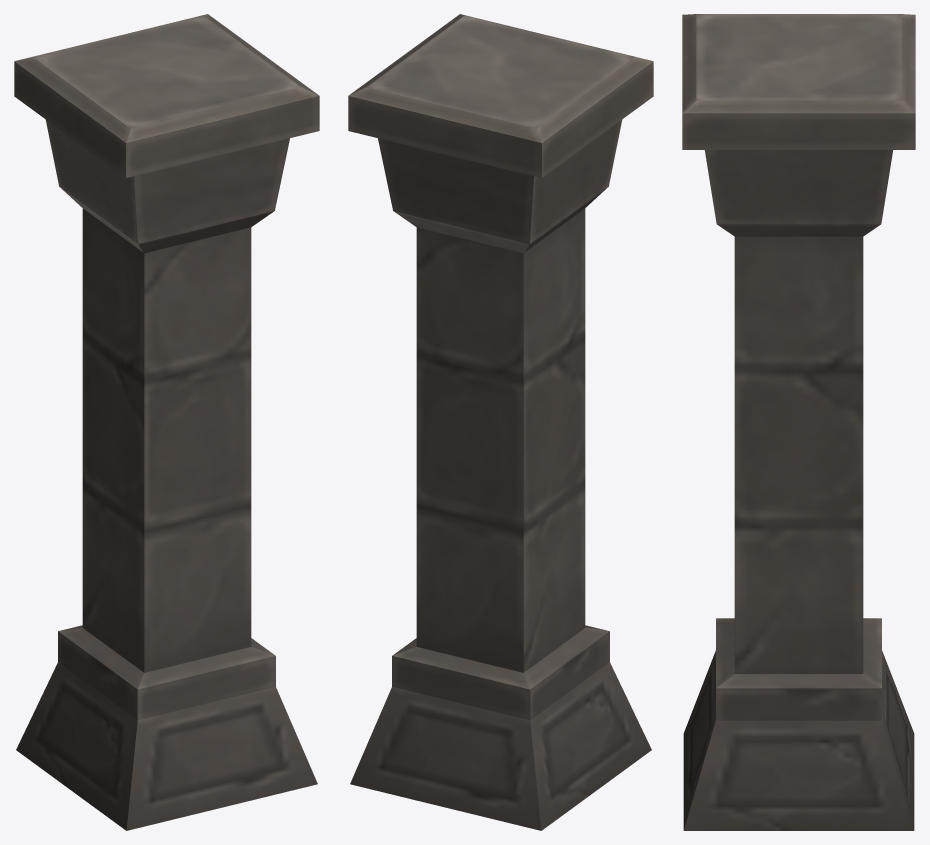
File: dungeon_wall_2.FBX
3 renders of one model, left to right at view 1: azimuth 30°, elevation 25°; view 2: azimuth 150°, elevation 25°; view 3: azimuth 270°, elevation 25°, orthographic. The views are drawn at different scales.
Visible parts, largest first — view 1: Object008; view 2: Object008; view 3: Object008.
Boxes of the visible parts, bbox=[...] form: Object008: bbox=[14, 14, 319, 830]; Object008: bbox=[348, 14, 653, 830]; Object008: bbox=[682, 14, 915, 830].
Size of the model in its own units: 22.09 by 75.74 by 22.09.
